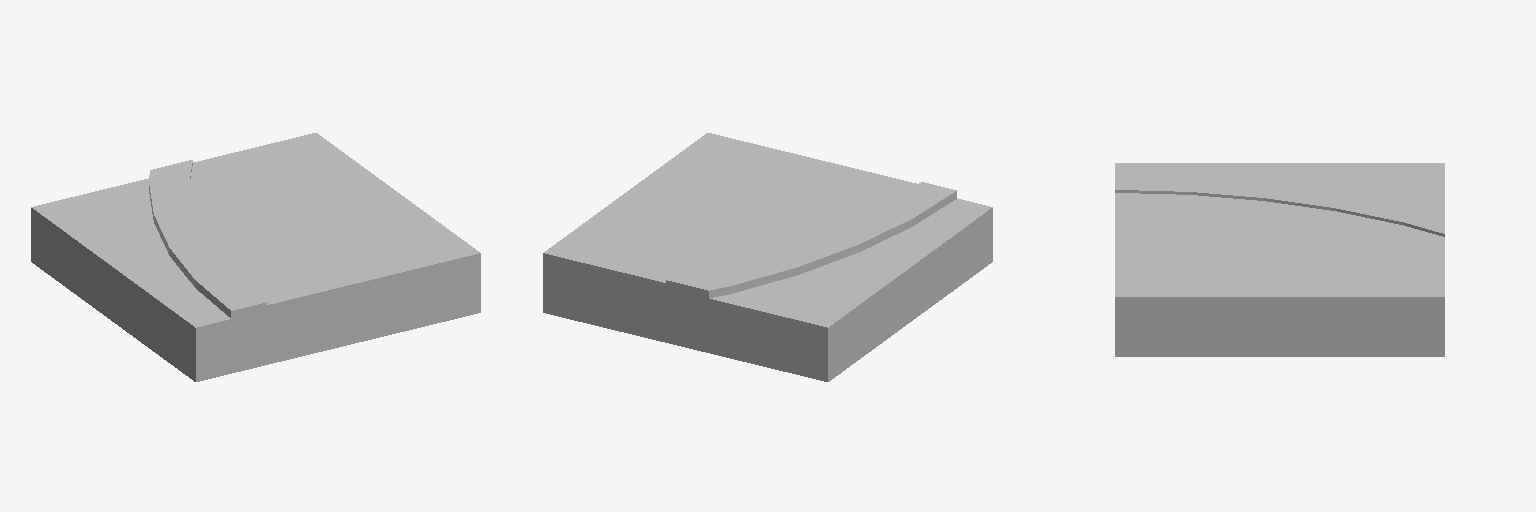
Rendered from tile207.obj.
The picture shows the model from 3 angles: view 1: azimuth 30°, elevation 25°; view 2: azimuth 150°, elevation 25°; view 3: azimuth 270°, elevation 25°; orthographic projection.
Parts seen in each view (by area): view 1: tile207; view 2: tile207; view 3: tile207.
Boxes of the visible parts, x1,y1,x2,y2 form: tile207: [31, 133, 480, 381]; tile207: [543, 133, 992, 381]; tile207: [1115, 163, 1444, 356].
Size of the model in its own units: 1 by 0.21 by 1.